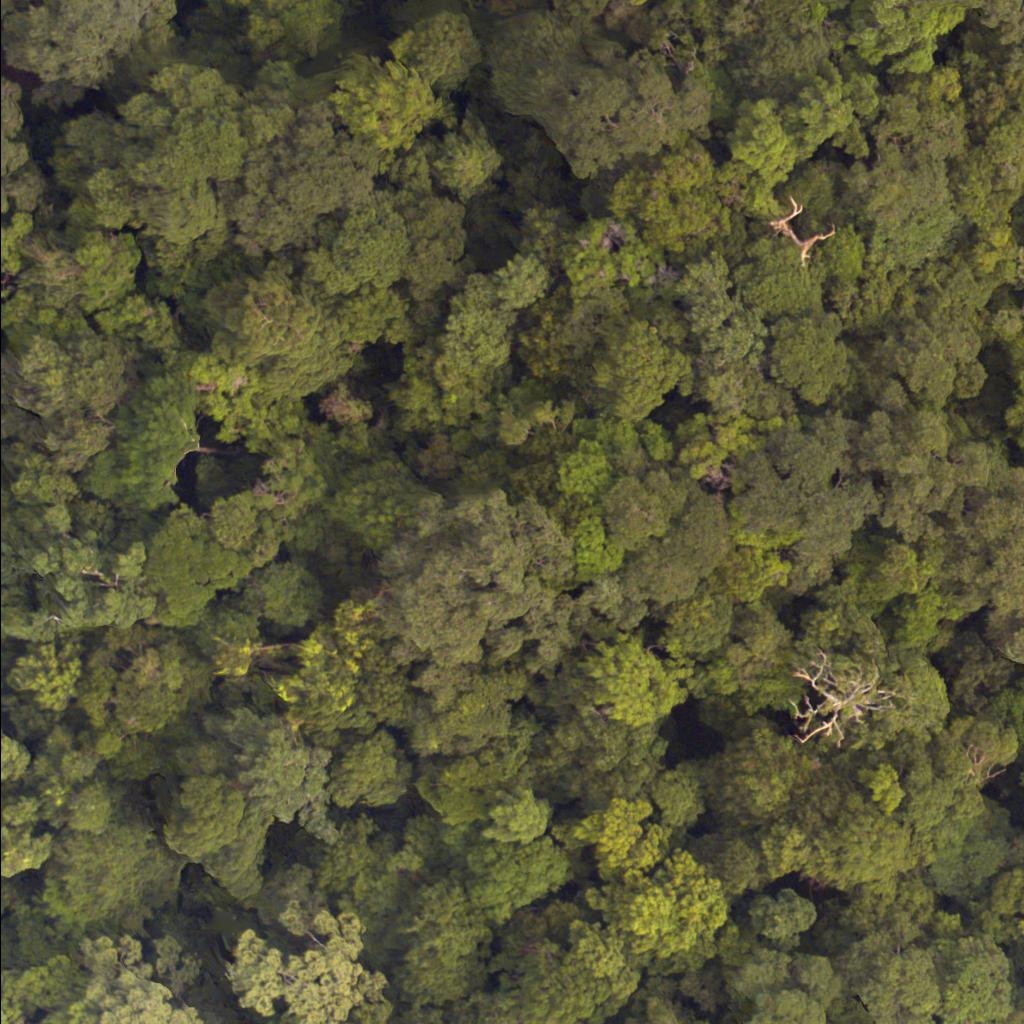crown: (366, 494, 624, 700), (736, 413, 881, 596), (58, 635, 213, 780), (859, 406, 994, 545), (36, 819, 187, 935), (589, 857, 730, 979), (222, 919, 387, 1023), (481, 911, 626, 1023), (0, 942, 196, 1023), (596, 37, 711, 170), (603, 136, 731, 254), (595, 281, 696, 421), (169, 747, 270, 884), (940, 467, 1023, 628), (533, 717, 669, 810), (862, 314, 984, 413), (228, 726, 332, 842), (697, 741, 831, 829), (579, 634, 692, 733), (670, 412, 802, 495), (389, 886, 479, 1006), (782, 59, 890, 159), (674, 251, 766, 366), (841, 143, 949, 235), (476, 827, 581, 920), (844, 0, 965, 80), (868, 70, 972, 162), (725, 21, 832, 106), (326, 729, 413, 826), (567, 800, 667, 883), (762, 310, 850, 403), (733, 235, 828, 319), (865, 195, 967, 270), (721, 100, 799, 185), (832, 263, 918, 340), (692, 358, 798, 419), (621, 523, 701, 603), (914, 251, 1006, 320), (597, 466, 671, 550), (776, 157, 851, 237), (952, 143, 1023, 227), (951, 53, 1012, 140), (678, 493, 734, 579), (719, 162, 789, 224), (718, 546, 787, 604), (962, 224, 1023, 289), (952, 0, 1023, 46), (624, 990, 712, 1023), (822, 226, 866, 281), (982, 110, 1023, 167), (1003, 347, 1023, 458), (262, 1005, 367, 1023), (398, 1003, 486, 1023), (1000, 74, 1023, 113), (1003, 39, 1023, 75), (729, 0, 765, 8), (624, 0, 647, 3)
